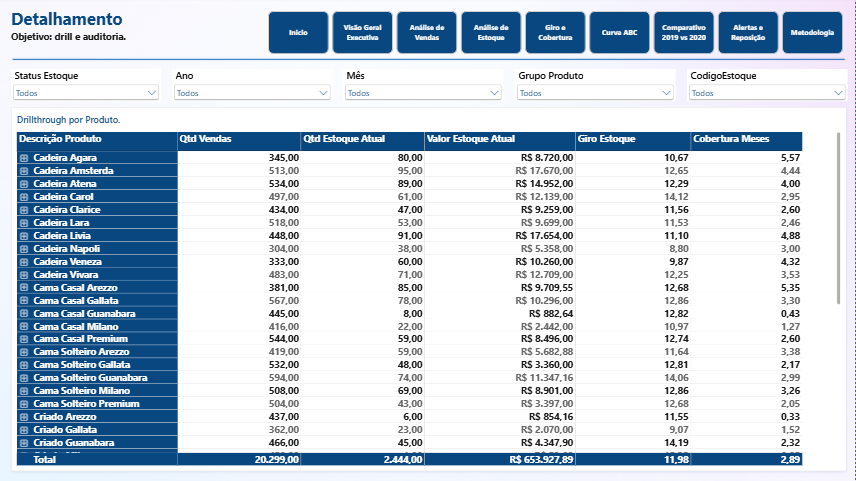

Layout of this report page (visuals, bound fields, positions):
{"tool":"powerbi","page":{"name":" Detalhamento","canvas":[1920,1080],"ordinal":8},"visuals":[{"type":"textbox","box":[24,0,552,120],"z":0},{"type":"pageNavigator","title":"Áreas de Análise:","box":[600,24,1296,96],"z":1000},{"type":"shape","box":[24,120,1872,24],"z":2000},{"type":"slicer","fields":{"Values":["dCalendario.Ano"]},"box":[384.6,155.2,360,72],"z":3000},{"type":"slicer","fields":{"Values":["dCalendario.Mês"]},"box":[769.2,155.2,360,72],"z":4000},{"type":"slicer","fields":{"Values":["dGrupoProduto.Grupo Produto"]},"box":[1153.8,155.2,360,72],"z":5000},{"type":"slicer","fields":{"Values":["dEstoque.CodigoEstoque"]},"box":[1538.4,155.2,360,72],"z":6000},{"type":"slicer","fields":{"Values":["dProduto.Status Estoque (coluna)"]},"box":[24,155.2,336,72],"z":7000},{"type":"pivotTable","title":"Drillthrough por Produto.","fields":{"Rows":["dProduto.Descrição Produto","dCalendario.Ano","dCalendario.Mês"],"Values":["Medidas.Qtd Vendas","MedidasDeCorrecao.Qtd Estoque Atual","MedidasDeCorrecao.Valor Estoque Atual","Medidas.Giro Estoque","Medidas.Cobertura Meses"]},"box":[24,240,1872,816],"z":8000}]}

Visuals, with their boxes in screenshot pixels (x1, y1, x2, y2), scaled from the page's 1920x1080 canvas onto the 856x481 screenshot:
textbox: 11, 0, 257, 53
"Áreas de Análise:" pageNavigator: 268, 11, 845, 53
shape: 11, 53, 845, 64
slicer - dCalendario.Ano: 171, 69, 332, 101
slicer - dCalendario.Mês: 343, 69, 503, 101
slicer - dGrupoProduto.Grupo Produto: 514, 69, 675, 101
slicer - dEstoque.CodigoEstoque: 686, 69, 846, 101
slicer - dProduto.Status Estoque (coluna): 11, 69, 160, 101
"Drillthrough por Produto." pivotTable: 11, 107, 845, 470
